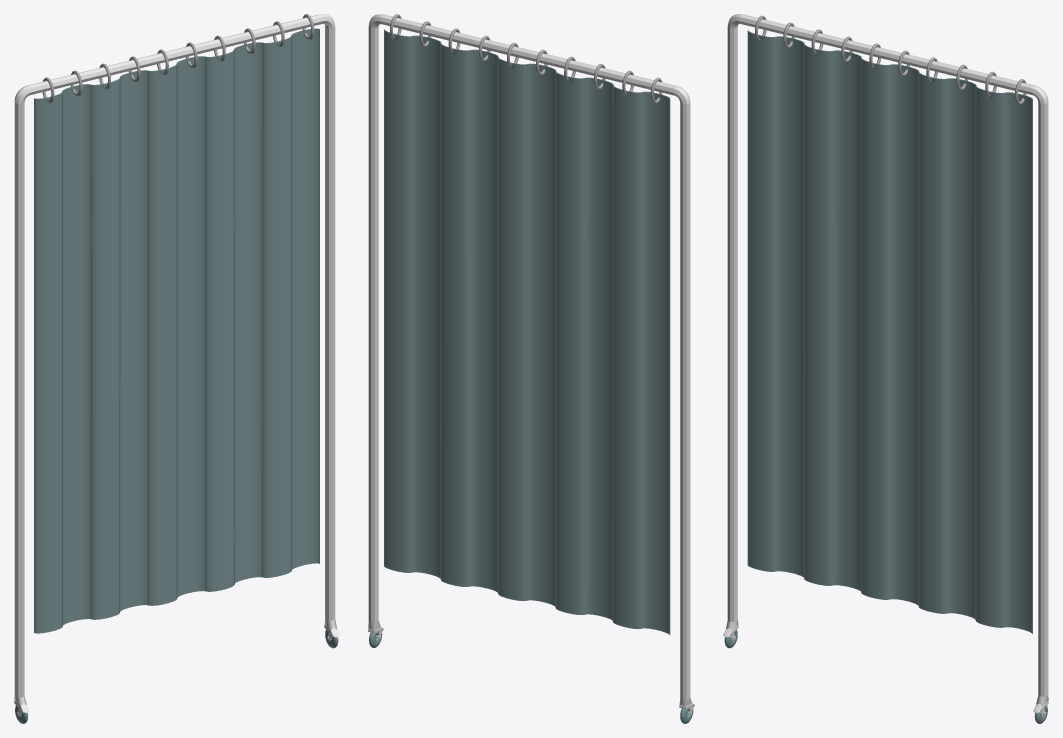
The model's file is Curtains.fbx.
The picture shows the model from 3 angles, left to right: view 1: azimuth 30°, elevation 25°; view 2: azimuth 150°, elevation 25°; view 3: azimuth 330°, elevation 25°; orthographic projection.
Visible parts, largest first — view 1: pTorus17; view 2: pTorus17; view 3: pTorus17.
Boxes of the visible parts, x1=… form: pTorus17: x1=14, y1=14, x2=339, y2=723; pTorus17: x1=368, y1=14, x2=694, y2=723; pTorus17: x1=723, y1=14, x2=1048, y2=723.
Size of the model in its own units: 4.14 by 7.88 by 0.2897.
